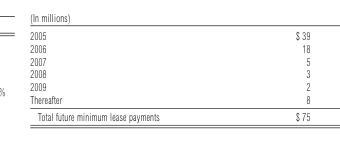table: (29, 28, 309, 122)
table column: (29, 28, 226, 122), (226, 28, 309, 122)
table row: (29, 92, 309, 107), (29, 107, 309, 122), (29, 28, 309, 41), (29, 41, 309, 54), (29, 54, 309, 67), (29, 67, 309, 80), (29, 80, 309, 92)
